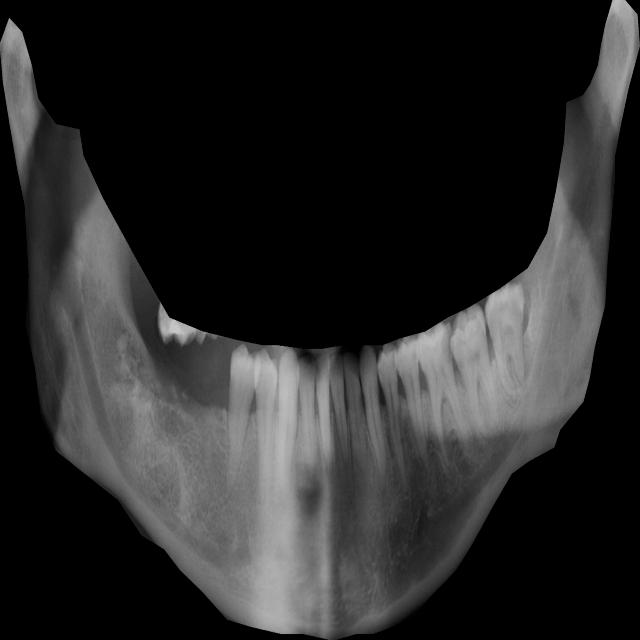mandibula: (0, 0, 640, 640)
